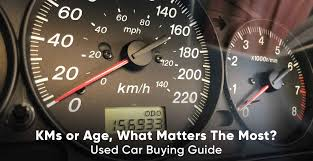Digital_Meter: (104, 108, 170, 133)
